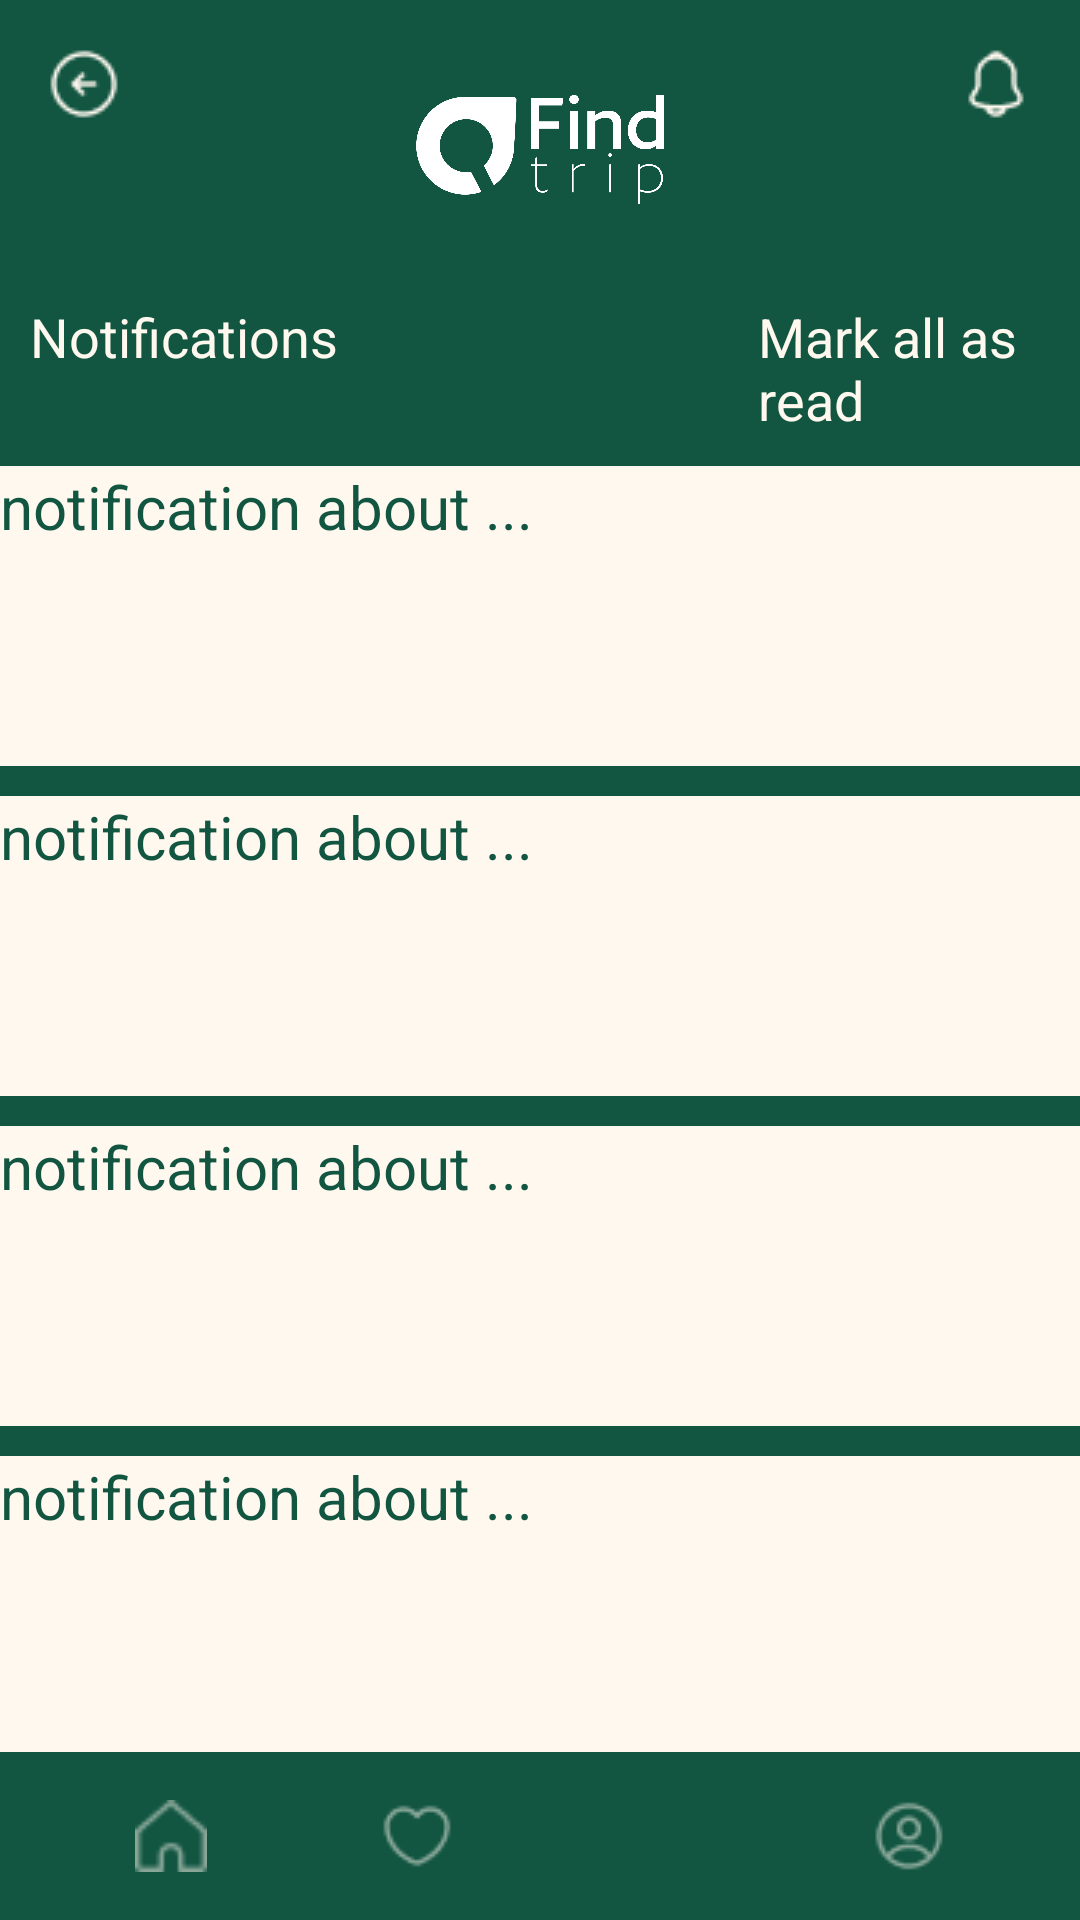

Named icons in this screenshot (1080*1920) and their bounding boxes, (x1, y1, x2, y2):
back: (50, 50, 118, 118)
favorite: (383, 1805, 451, 1866)
home: (135, 1800, 207, 1872)
notification: (968, 50, 1024, 118)
profile: (875, 1802, 943, 1870)
